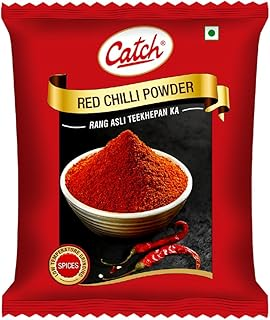Chilli Powder: (2, 4, 270, 319)
